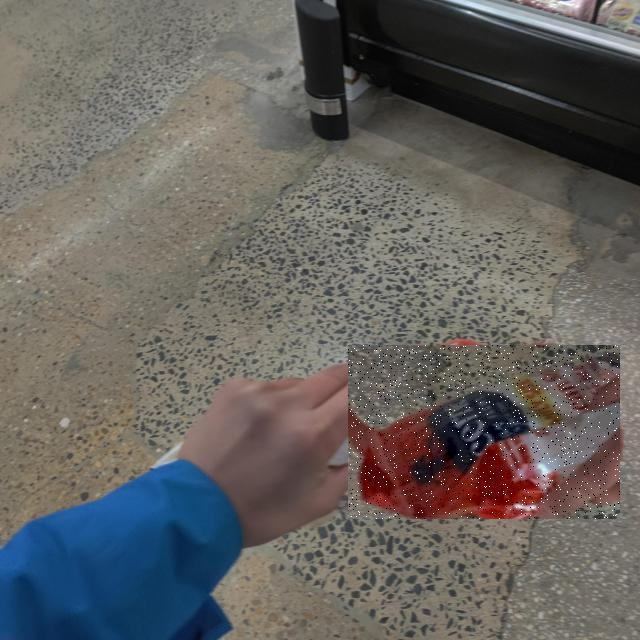cheese: (38, 260, 640, 640)
